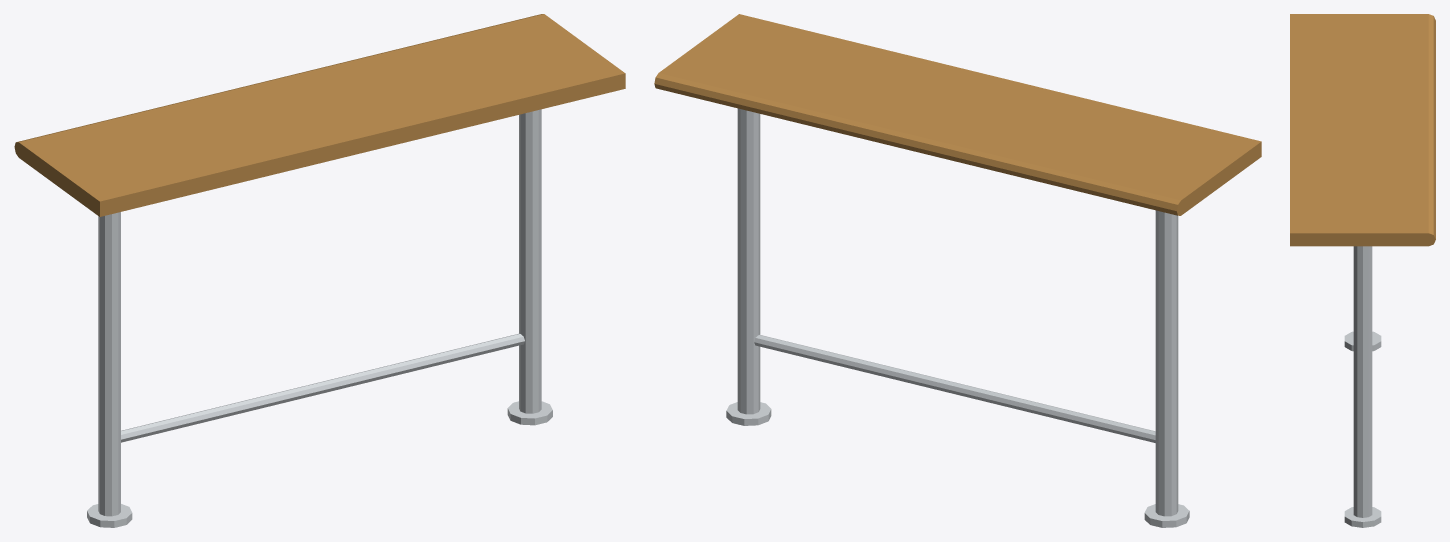
File: SM_LPI_Kitchen_BreakfastBar_01.fbx
The picture shows the model from 3 angles, left to right: view 1: azimuth 30°, elevation 25°; view 2: azimuth 150°, elevation 25°; view 3: azimuth 270°, elevation 25°; orthographic projection. The views are drawn at different scales.
Visible parts, largest first — view 1: SM_LPI_Kitchen_BreakfastBar_01; view 2: SM_LPI_Kitchen_BreakfastBar_01; view 3: SM_LPI_Kitchen_BreakfastBar_01.
Boxes of the visible parts, box(x1,y1,x2,y2) form: SM_LPI_Kitchen_BreakfastBar_01: box(14, 14, 625, 527); SM_LPI_Kitchen_BreakfastBar_01: box(654, 14, 1261, 527); SM_LPI_Kitchen_BreakfastBar_01: box(1290, 14, 1435, 527).
Size of the model in its own units: 1.6 by 1.05 by 0.45.
